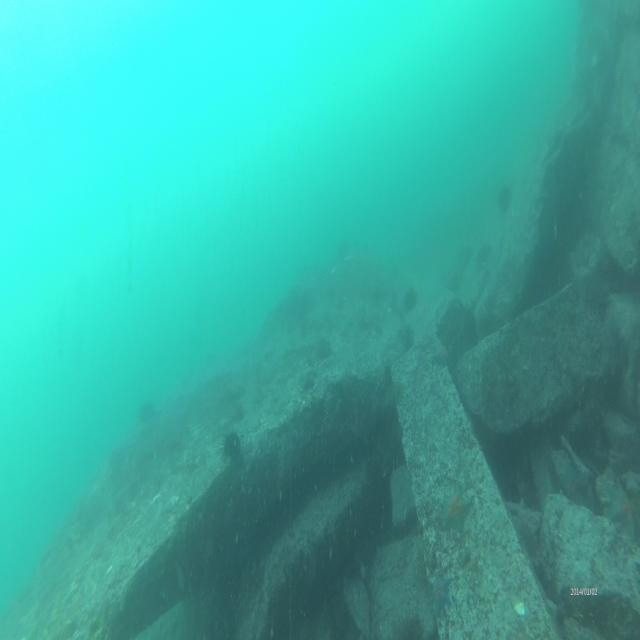echinus: (222, 429, 246, 460), (495, 183, 511, 212), (402, 288, 419, 310)
starfish: (436, 484, 474, 529)
